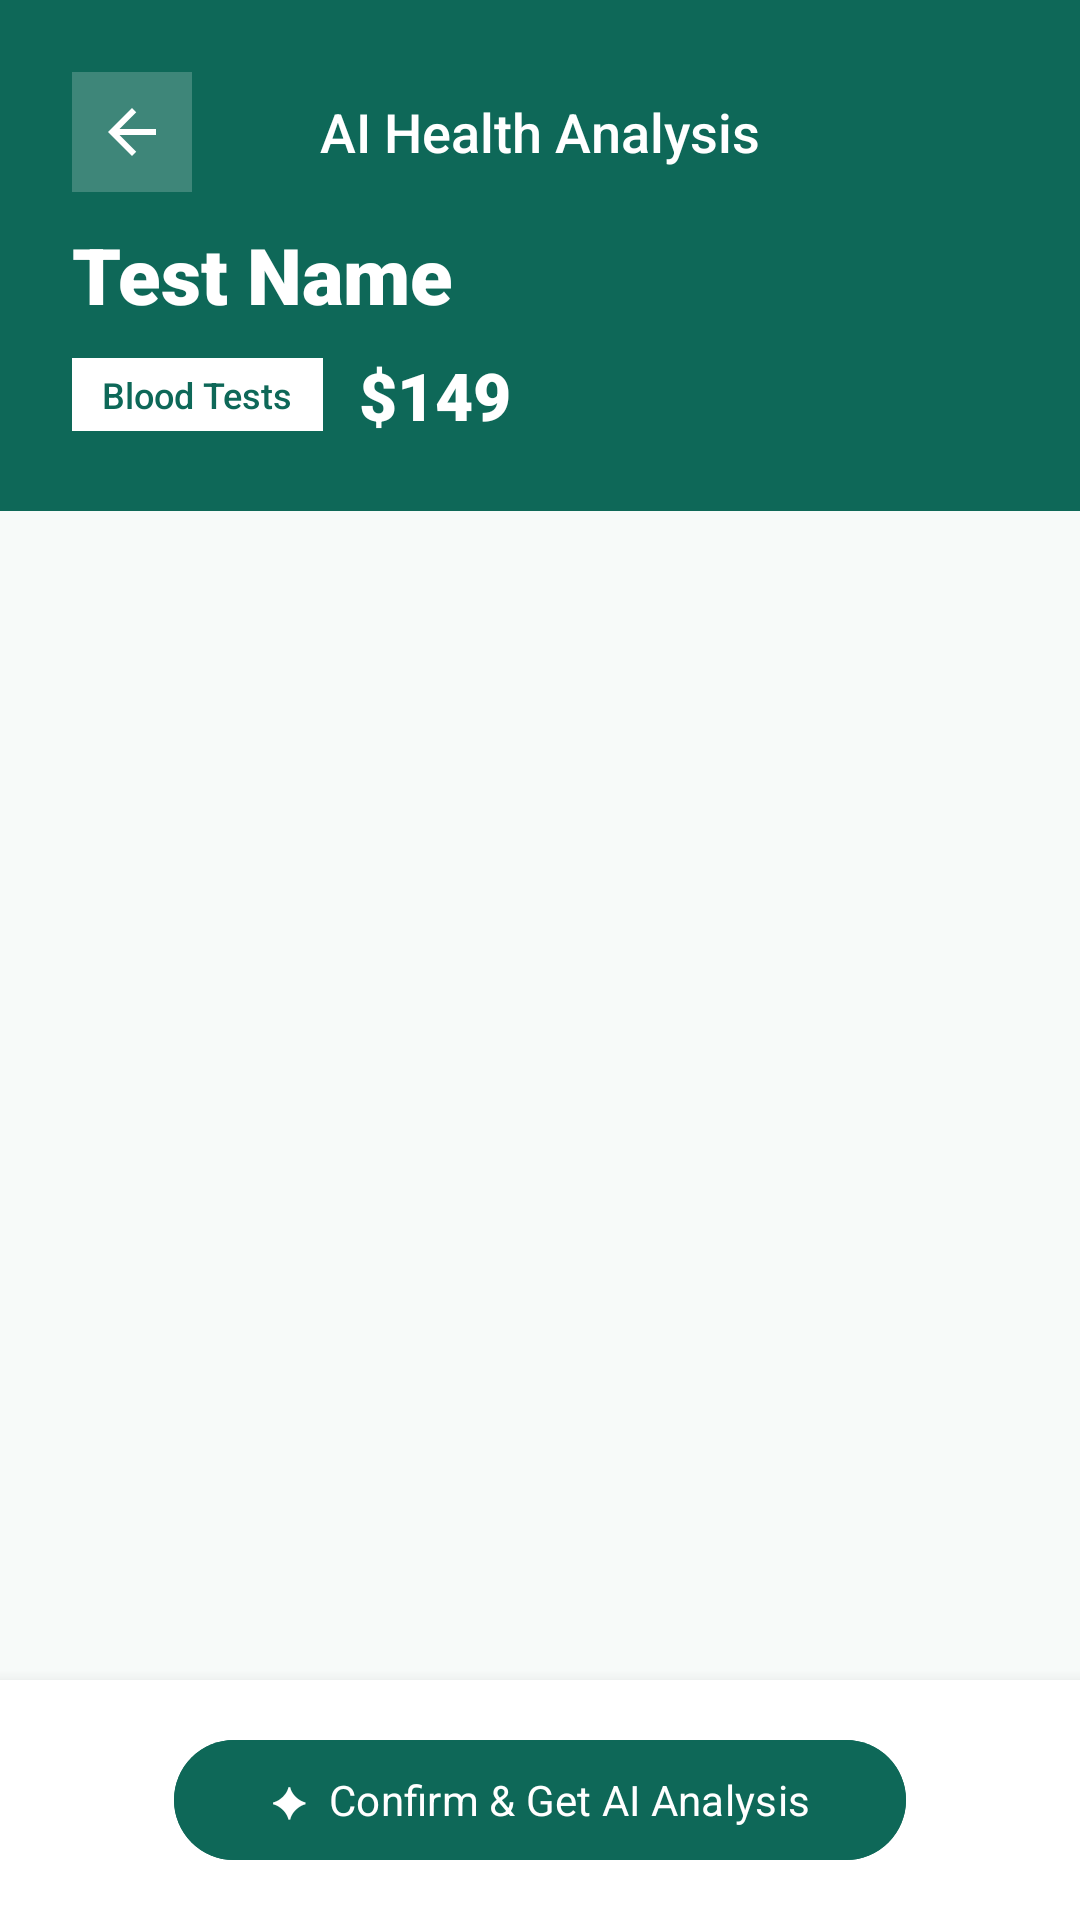

Icons on this 1080px x 1920px Android screen, each with its box as [x1, y1, x2, y2]:
back: [72, 72, 192, 192]
